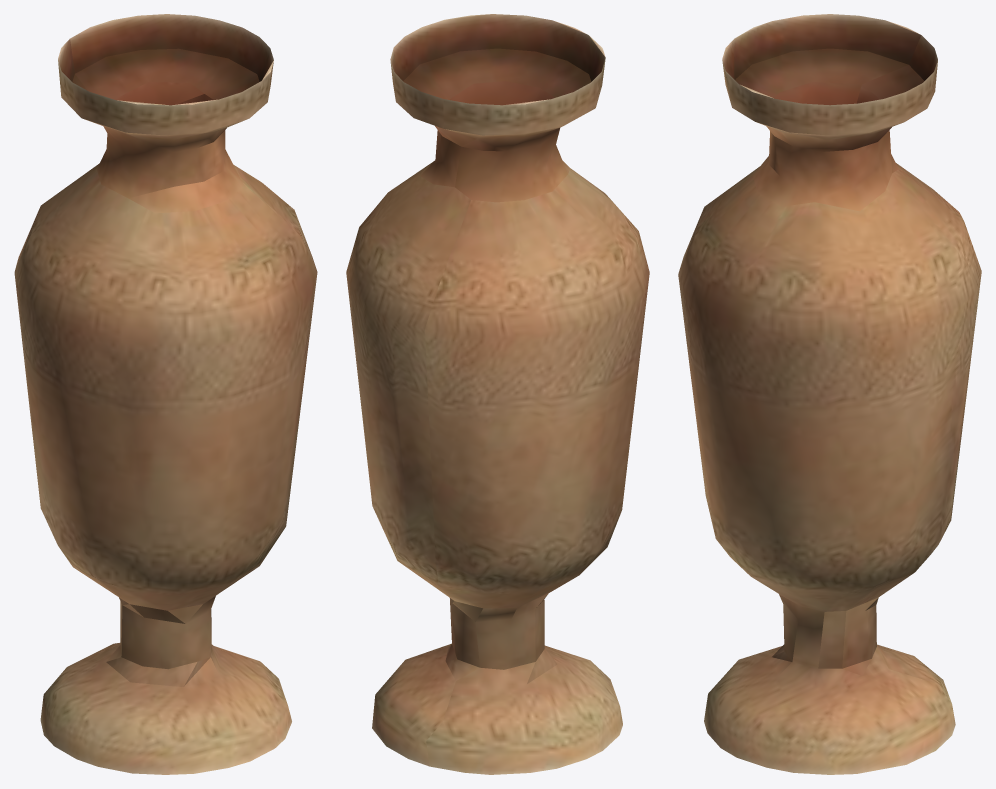
File: vase-brass-a.lod1.glb
3 renders of one model, left to right at view 1: azimuth 30°, elevation 25°; view 2: azimuth 150°, elevation 25°; view 3: azimuth 270°, elevation 25°, orthographic.
Visible parts, largest first — view 1: vase-brass-a; view 2: vase-brass-a; view 3: vase-brass-a.
Boxes of the visible parts, box(x1,y1,x2,y2) form: vase-brass-a: box(14, 14, 317, 774); vase-brass-a: box(346, 14, 649, 774); vase-brass-a: box(678, 14, 981, 774).
Bounding box in the file's own units: 0.083 × 0.2006 × 0.0833.
1 material, 1 textured.
